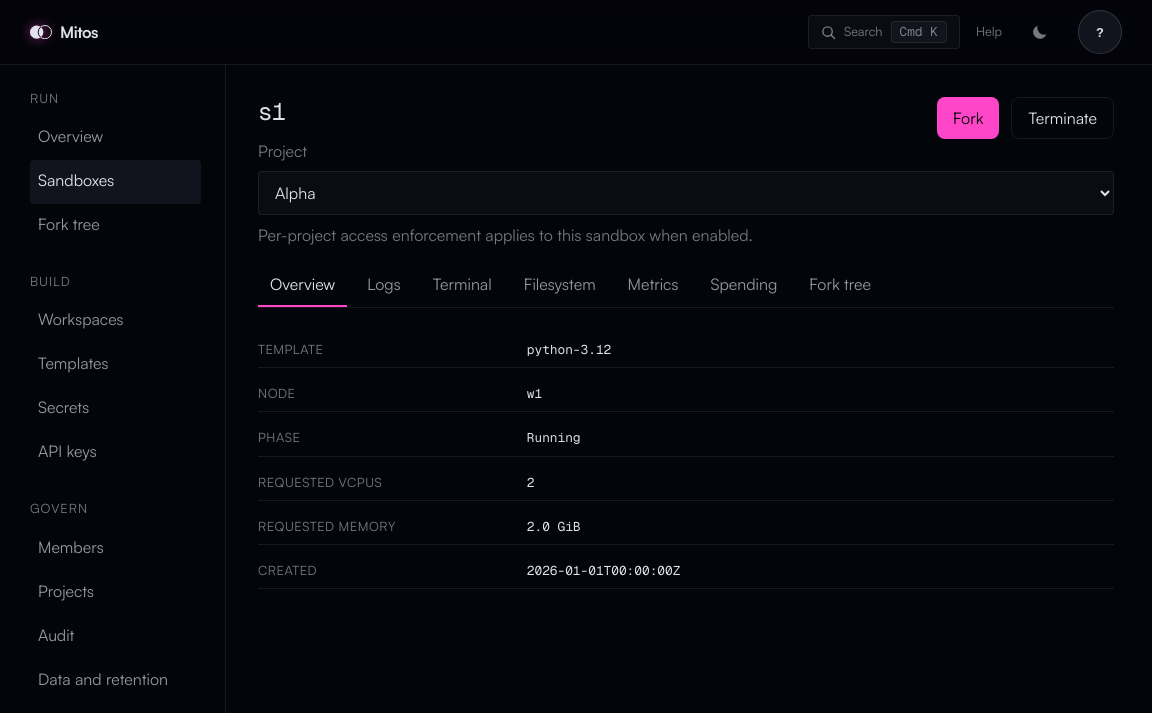
Test: SandboxDetail › renders the sandbox overview and switches to the Logs tab
Expected: the heading "s1" is shown, [258,100,285,124]
Expected: the text "python-3.12" is shown, [527,341,611,358]
Click the tab "Logs": x=384, y=285 [355,263,413,307]
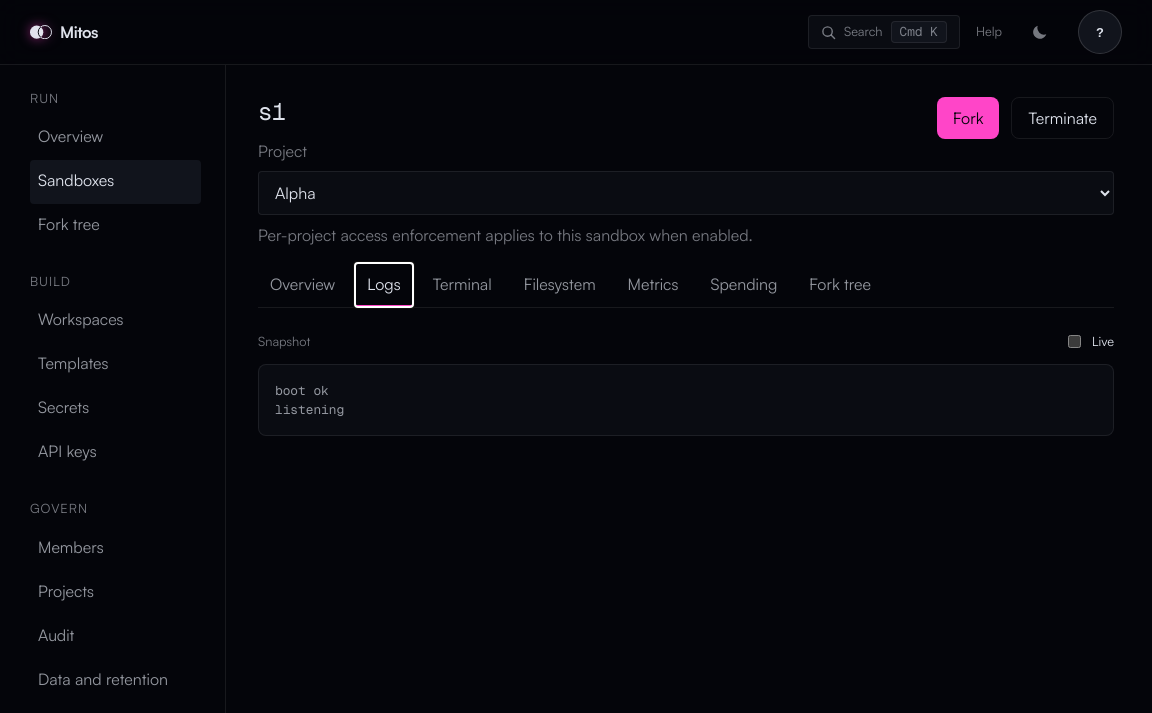
Expected: the text "boot ok listening" is shown, [258,364,1114,436]
